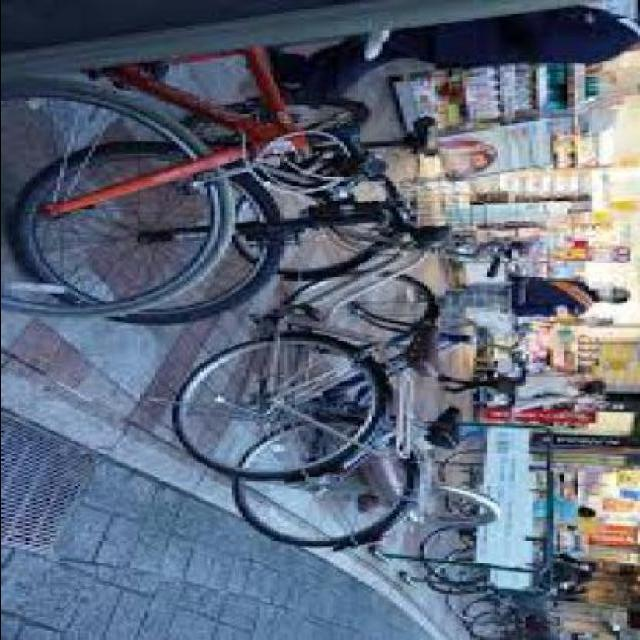bicycle: (159, 145, 536, 503)
